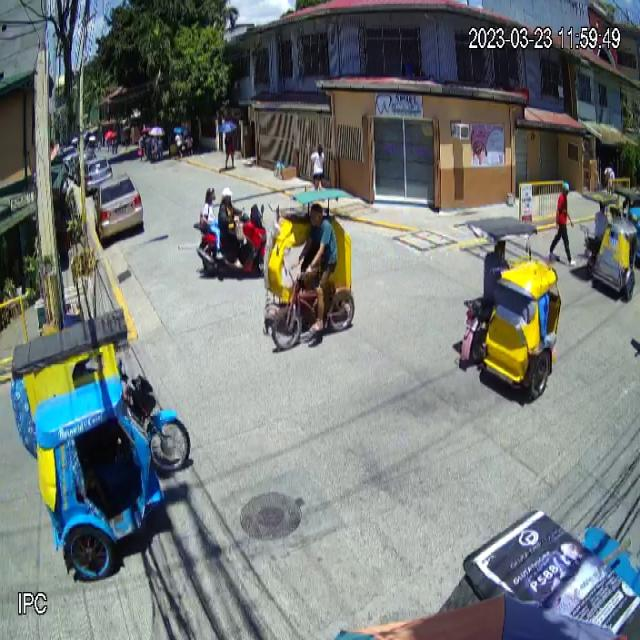Car: (94, 173, 144, 238)
Motorcycle: (193, 203, 269, 277)
Tricycle: (9, 307, 192, 579), (461, 218, 562, 402)
